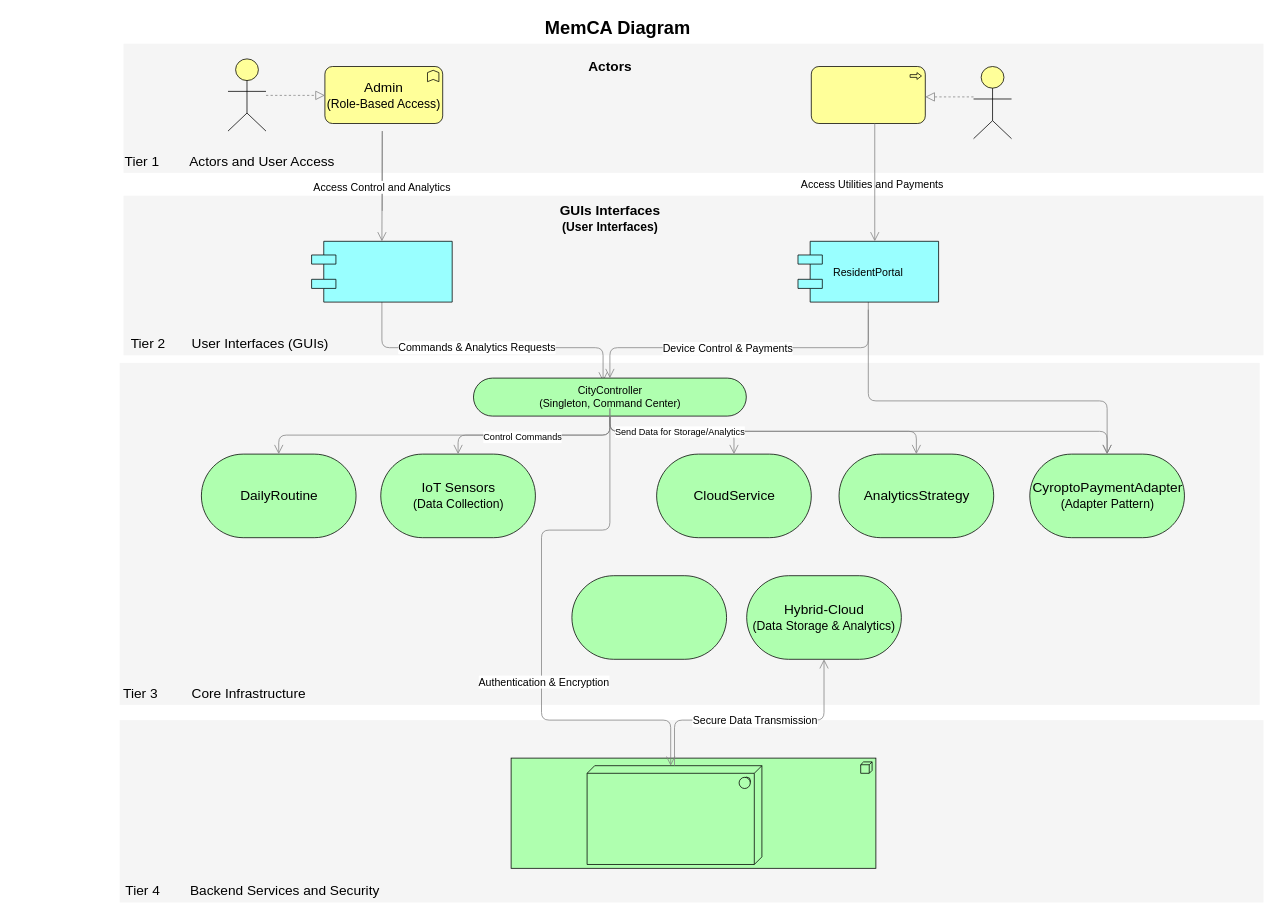
Image size: 1276x922. Some labels were removed from this diagram. Here are the shapes that lost their labels. From the top down, the centre of each, then its label:
At (x=868, y=95): "Resident (Limited Acceses)".
At (x=381, y=271): "AdminDashboard".
At (x=649, y=617): "RealCloudService".
At (x=674, y=814): "SecurityManager (Role-Based Access)".
